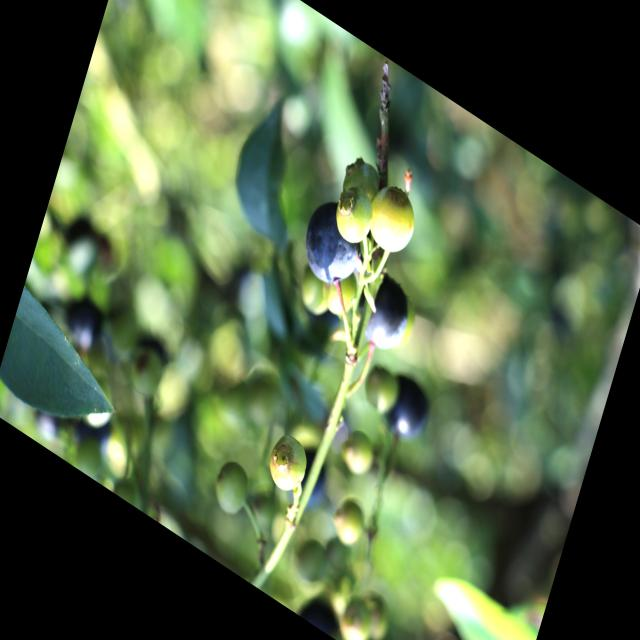blueberry: (296, 193, 368, 295), (346, 260, 417, 359), (380, 368, 435, 448), (286, 442, 333, 516)
blueberry-unripe: (362, 176, 423, 266), (264, 426, 312, 500), (332, 182, 378, 250), (338, 148, 383, 204), (211, 458, 251, 520), (339, 426, 378, 481)
